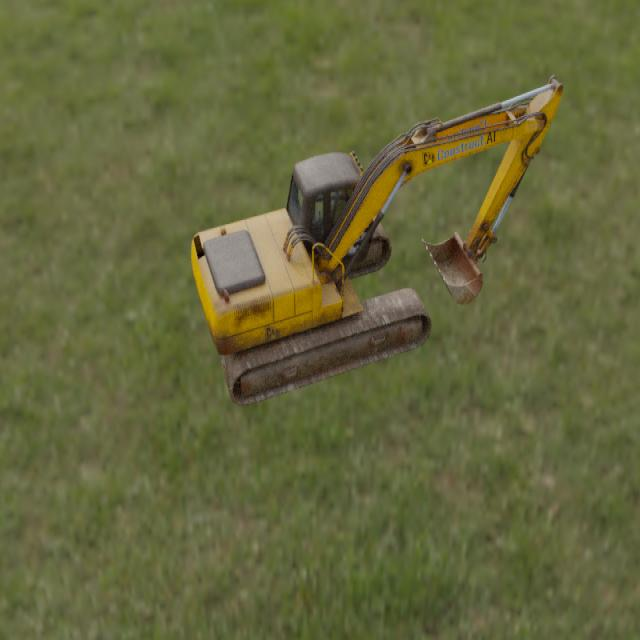excavator: (190, 73, 563, 406)
